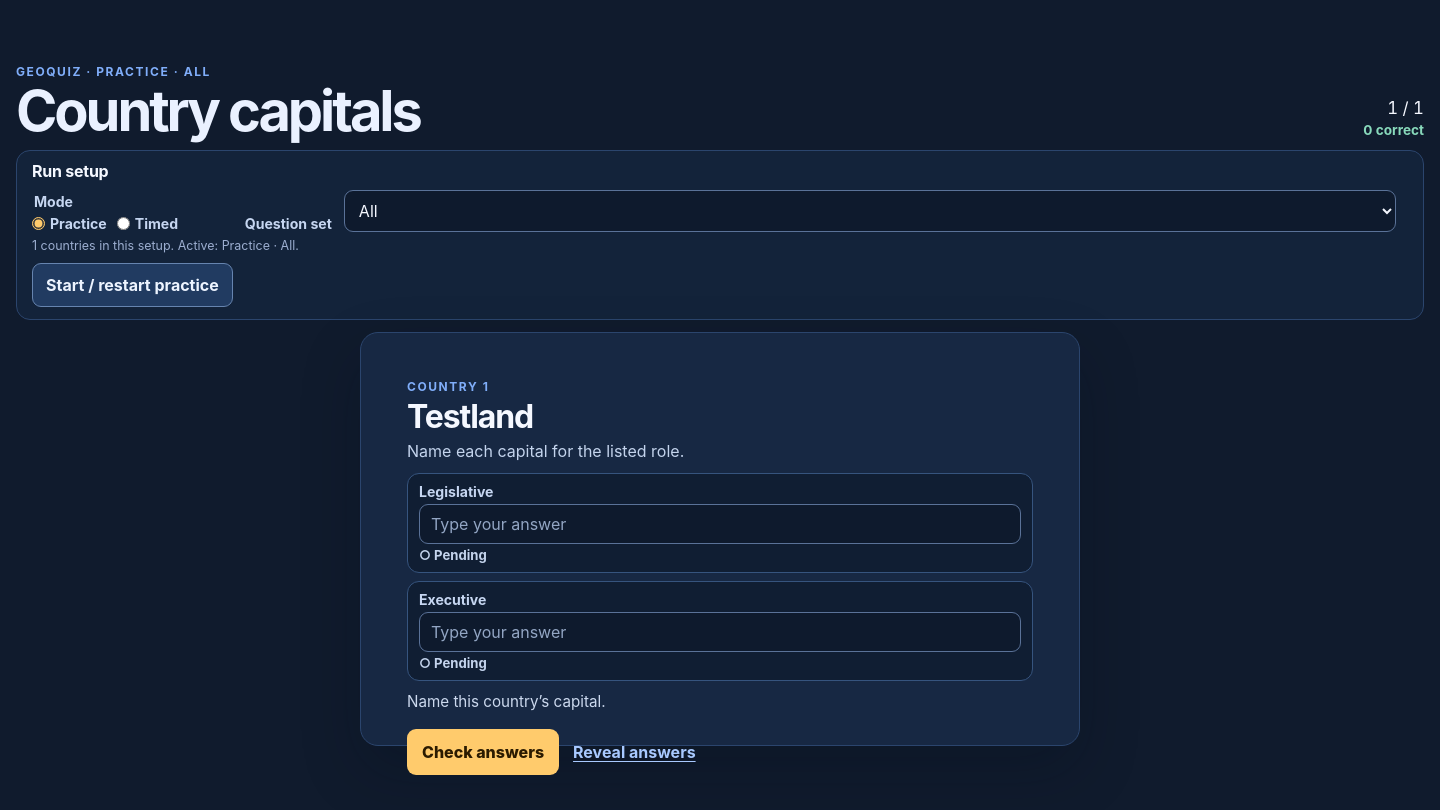
Test: CountryCapitalQuiz › keeps answers out of challenge DOM, locks independent practice fields, and reveals unresolved fields
The width and height of the screenshot is (1440, 810).
Check: the text "Alpha City" is not shown
Check: the text "Beta City" is not shown
Type "Alpha City" into the field labelled "Legislative". click: [720, 524]
box: [419,504,1021,544]
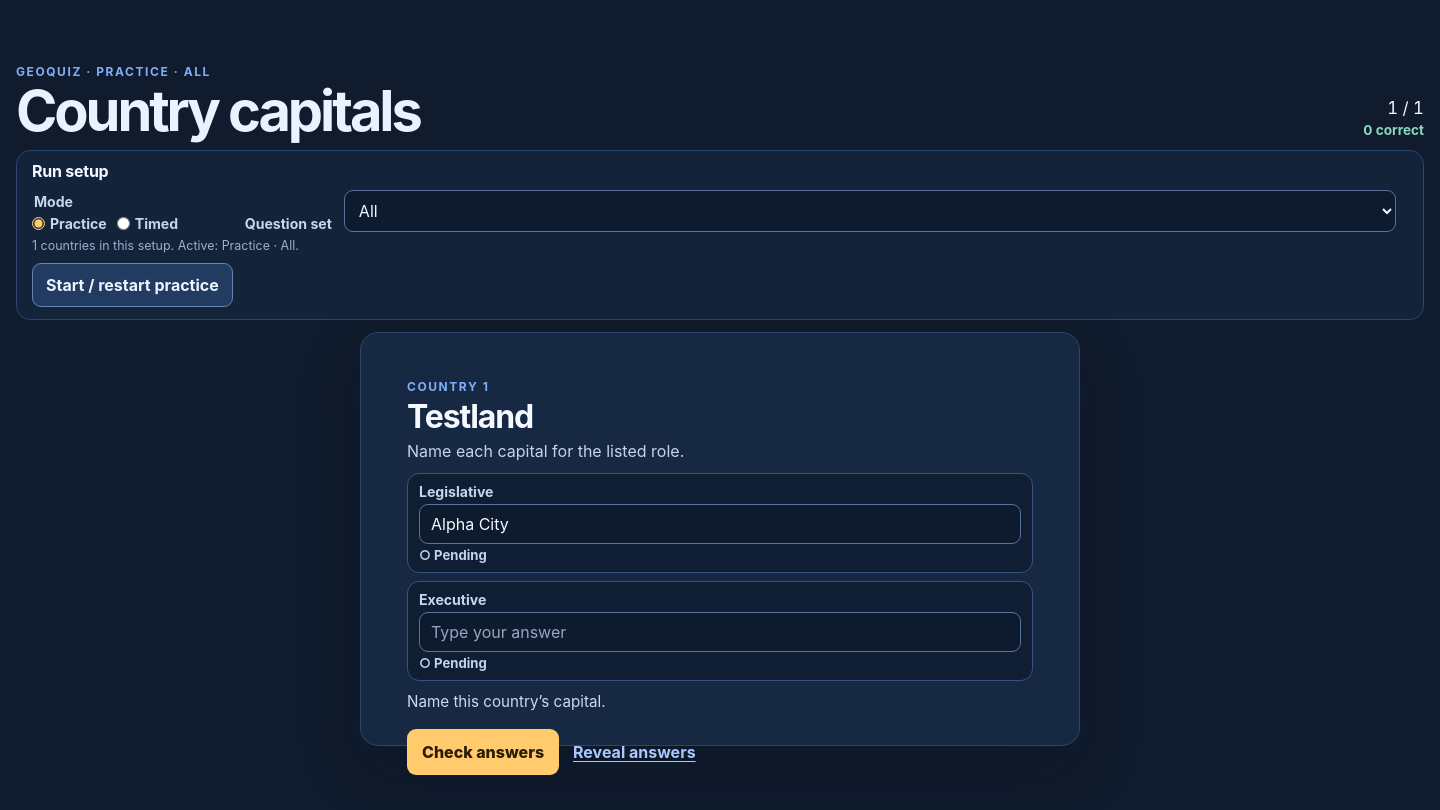
Click the button "Check answers". click: [483, 752]
box: [407,729,559,775]
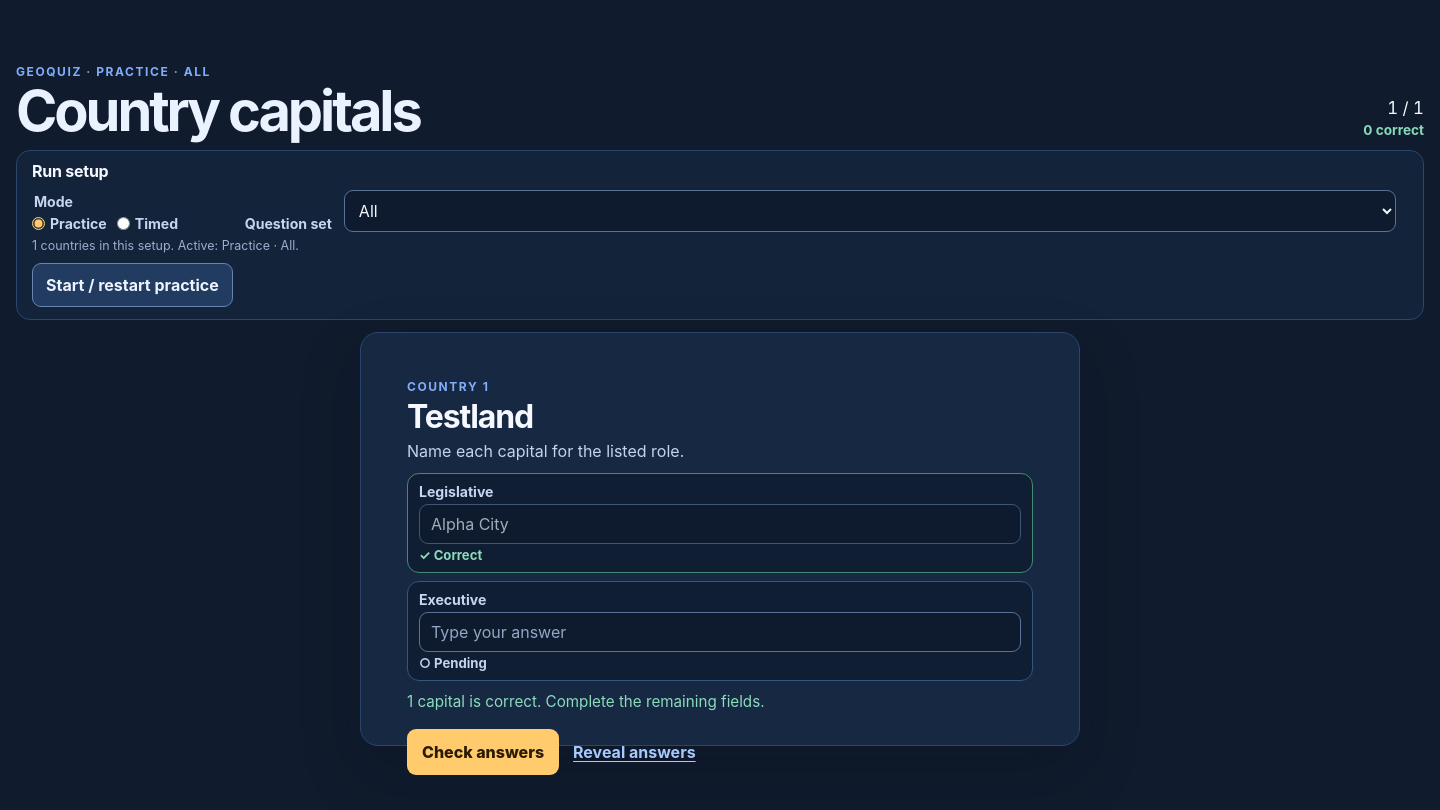
Check: the field labelled "Executive" is enabled, box [419,612,1021,652]
Check: the field labelled "Legislative" is disabled, box [419,504,1021,544]
Check: the text "Correct" is shown, box [434,547,482,563]
Click the button "Reveal answers". click: [634, 752]
box: [573,738,696,766]
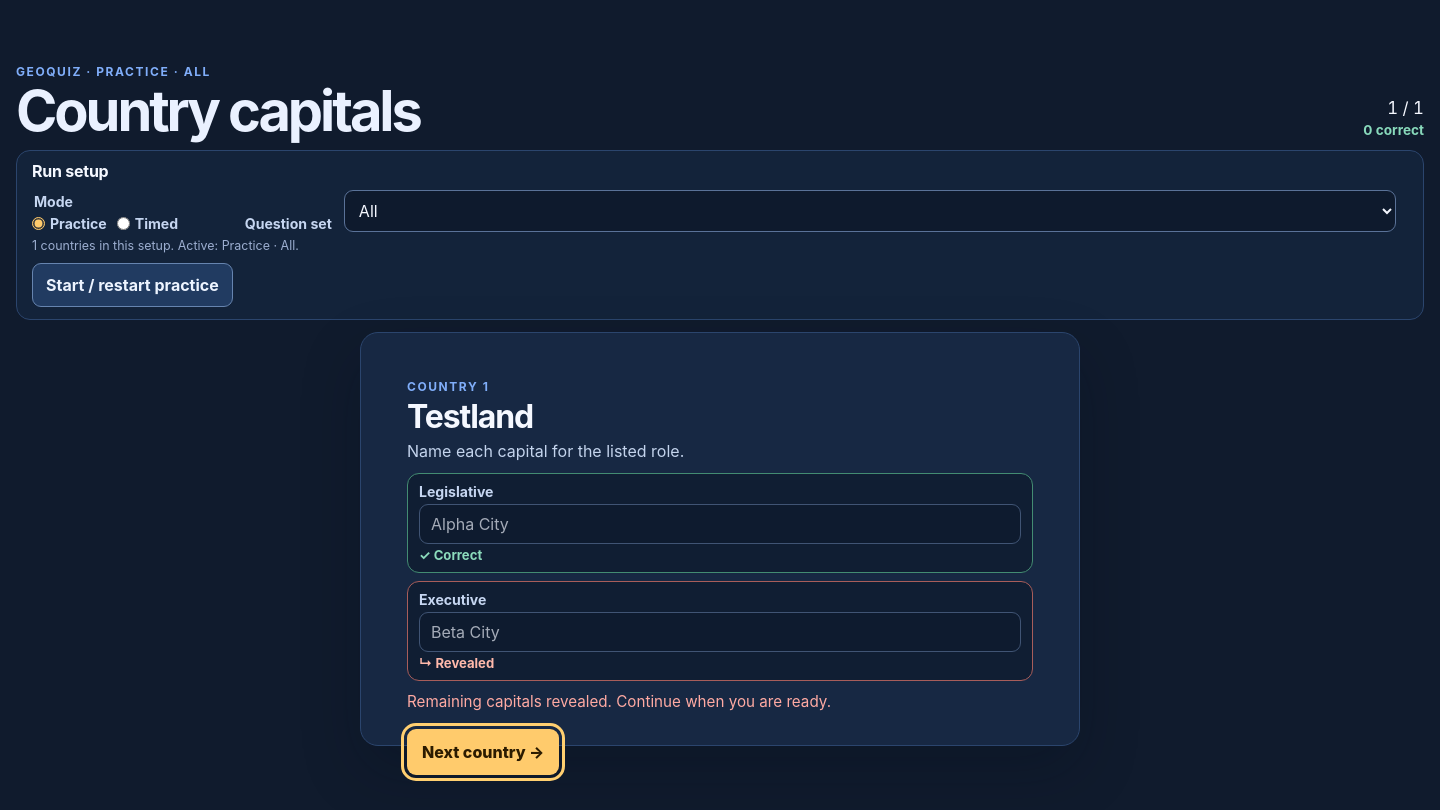
Check: the field labelled "Executive" holds "Beta City", box [419,612,1021,652]
Check: the text "Revealed" is shown, box [435,655,494,671]
Check: the button "Next country →" is shown, box [407,729,559,775]
